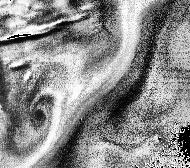CE: (19, 87, 62, 138)
